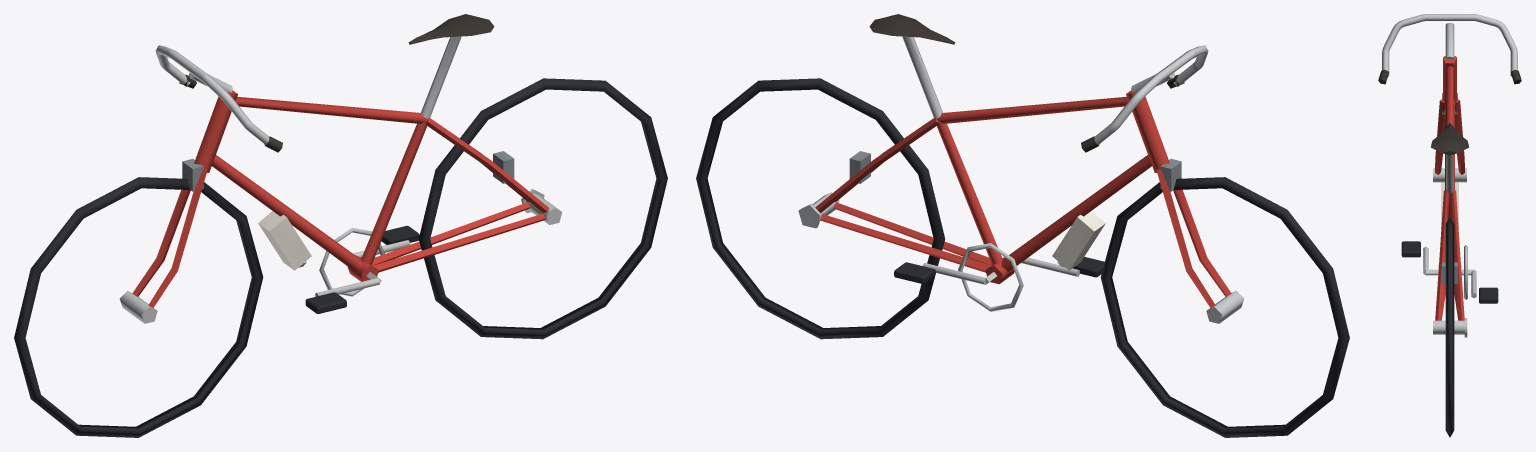
File: roadBike.far.glb
3 views of the same model, side by side, from view 1: azimuth 30°, elevation 25°; view 2: azimuth 150°, elevation 25°; view 3: azimuth 270°, elevation 25° (orthographic). The views are drawn at different scales.
Visible parts, largest first — view 1: roadBike; view 2: roadBike; view 3: roadBike.
Part boxes in pixels (left/top/right/bottom): roadBike: left=14, top=14, right=667, bottom=437; roadBike: left=696, top=14, right=1349, bottom=437; roadBike: left=1378, top=14, right=1521, bottom=437.
Size of the model in its own units: 1.81 by 0.9613 by 0.4467.
